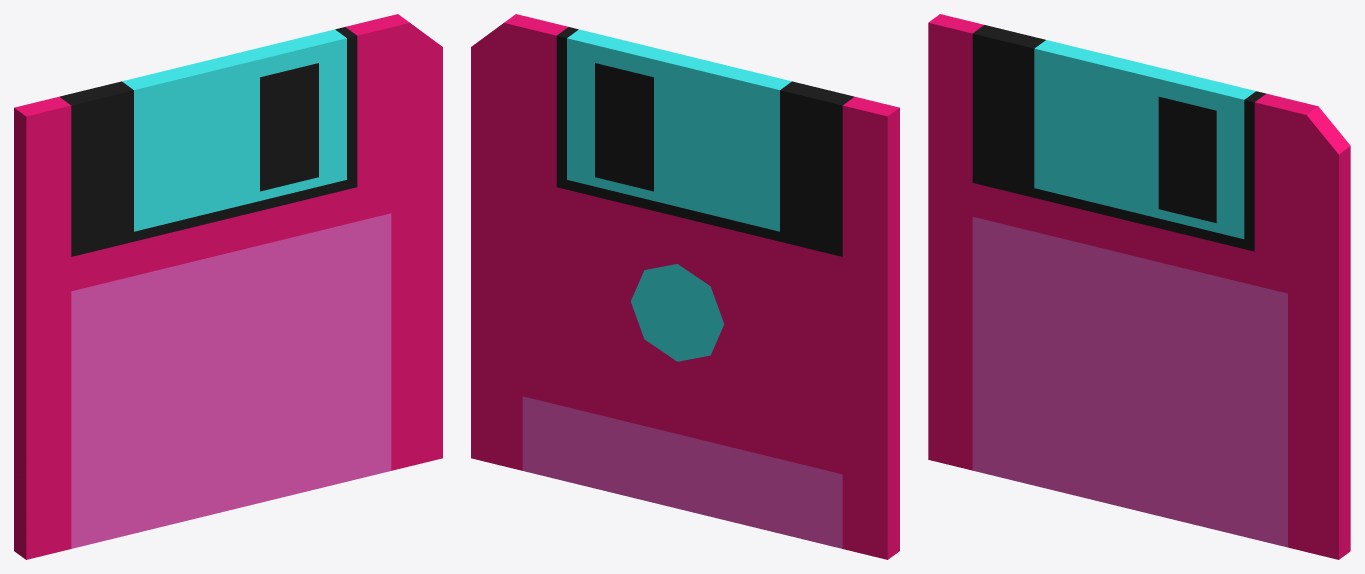
File: floppy_hotpink.FBX
3 views of the same model, side by side, from view 1: azimuth 30°, elevation 25°; view 2: azimuth 150°, elevation 25°; view 3: azimuth 330°, elevation 25° (orthographic).
Visible parts, largest first — view 1: floppy_hotpink; view 2: floppy_hotpink; view 3: floppy_hotpink.
Part boxes in pixels (<box>): floppy_hotpink: <box>14,14,442,559</box>; floppy_hotpink: <box>471,14,899,559</box>; floppy_hotpink: <box>928,14,1350,559</box>.
Bounding box in the file's own units: 54.75 × 55.69 × 2.75.
